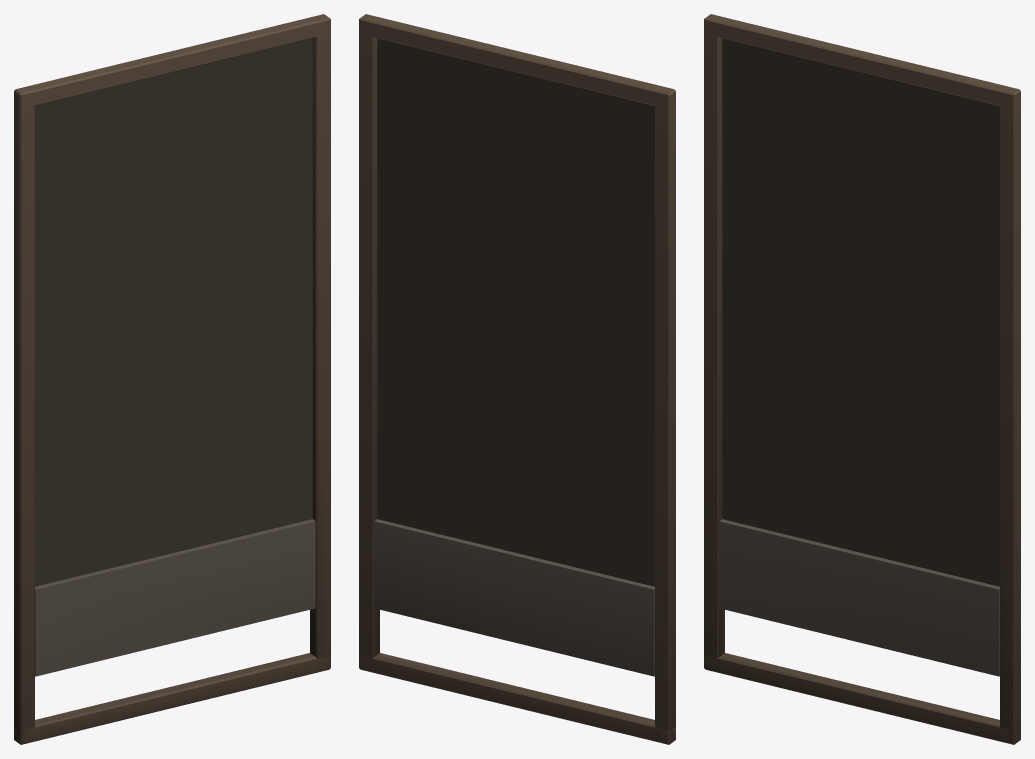
The model's file is bld.jp_house.door_shoji.mo.glb.
The picture shows the model from 3 angles, left to right: view 1: azimuth 30°, elevation 25°; view 2: azimuth 150°, elevation 25°; view 3: azimuth 330°, elevation 25°; orthographic projection.
Visible parts, largest first — view 1: LOD0; view 2: LOD0; view 3: LOD0.
Boxes of the visible parts, box(x1,y1,x2,y2) form: LOD0: box(14, 14, 330, 744); LOD0: box(359, 14, 675, 744); LOD0: box(704, 14, 1020, 744).
Size of what is drawn, in the model's own units: 0.9001 by 1.8 by 0.035.
